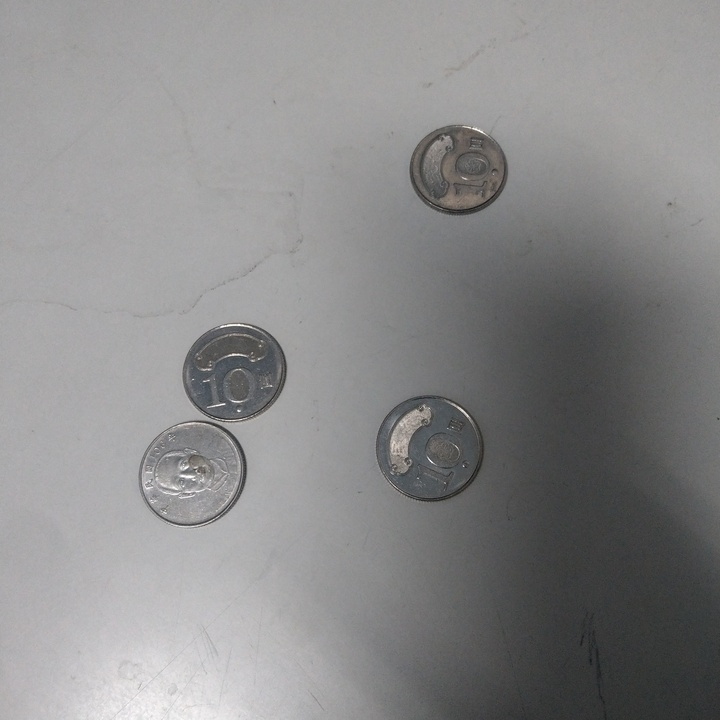10 dollar: (137, 419, 247, 530), (375, 396, 485, 503), (181, 323, 289, 425), (406, 122, 508, 218)
